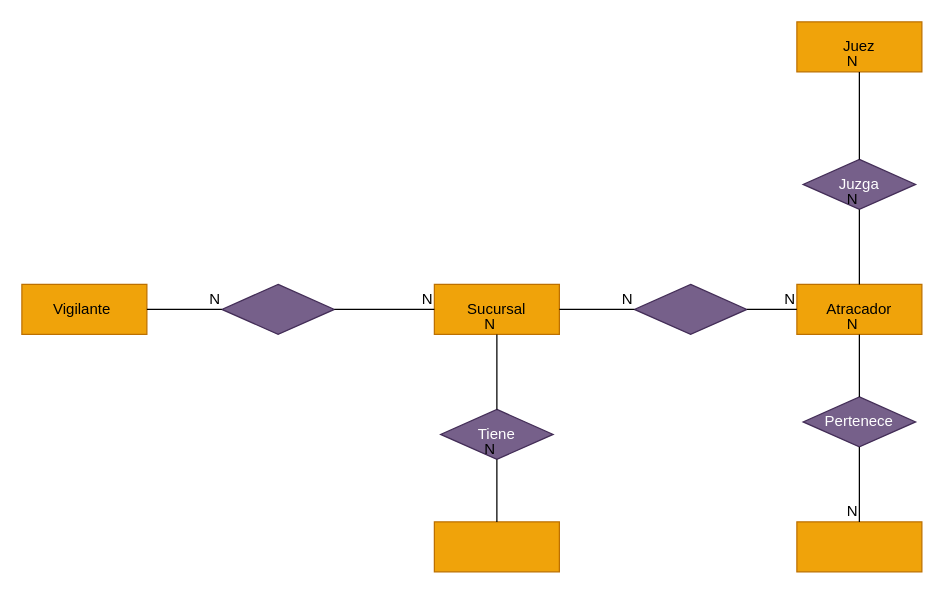
The diagram is 944 pixels wide and 594 high, and some of its shapes have lost their labels. The shapes that lost their labels are listed below. From the top down, each one's centre as x and y in pixels, then its label:
point 277,308: Contrata
point 690,308: Detenida
point 496,546: Entidad Bancaria
point 859,546: Banda
